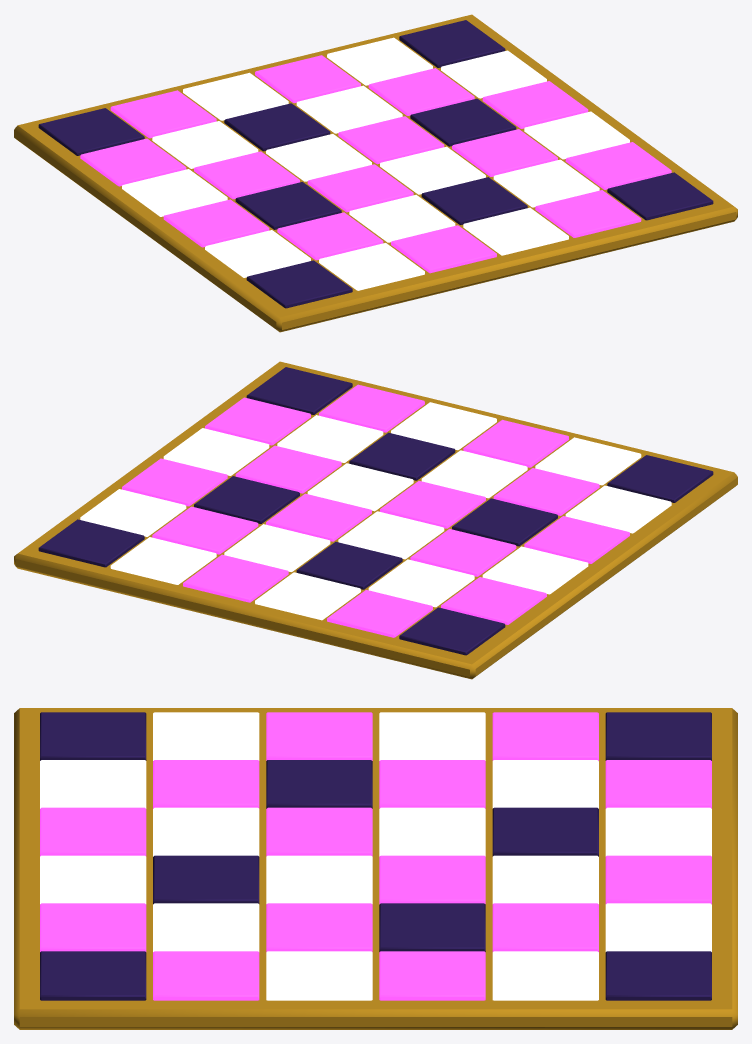
File: W6_DanceFloor.fbx
The picture shows the model from 3 angles, top to bottom: view 1: azimuth 30°, elevation 25°; view 2: azimuth 150°, elevation 25°; view 3: azimuth 270°, elevation 25°; orthographic projection. The views are drawn at different scales.
Visible parts, largest first — view 1: W6_DanceFloor; view 2: W6_DanceFloor; view 3: W6_DanceFloor.
Part boxes in pixels (x1=…): W6_DanceFloor: x1=14, y1=14, x2=737, y2=332; W6_DanceFloor: x1=14, y1=361, x2=737, y2=679; W6_DanceFloor: x1=14, y1=708, x2=737, y2=1029.
Size of the model in its own units: 6.4 by 0.25 by 6.4.
